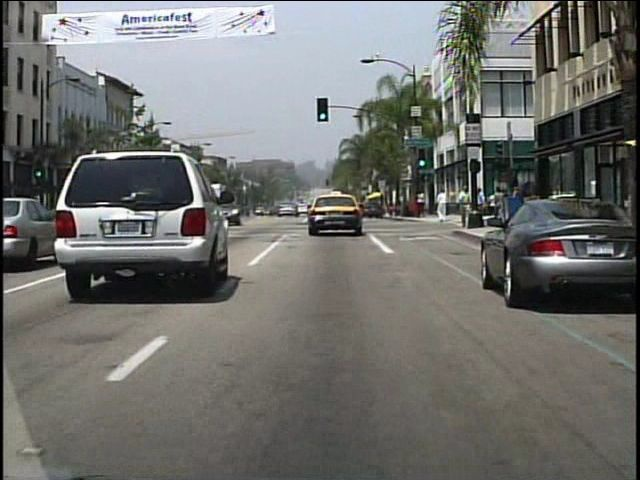person: (471, 187, 488, 228), (490, 187, 507, 228), (458, 184, 471, 228), (472, 187, 486, 227), (436, 189, 448, 222), (486, 191, 497, 222), (417, 190, 428, 218)
